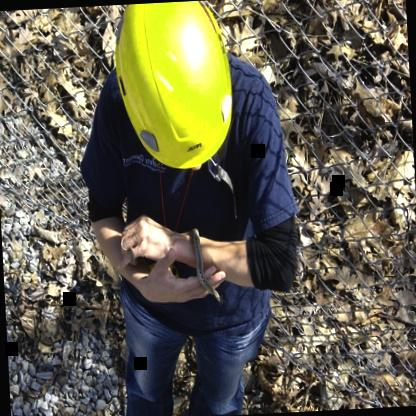helmet: (104, 0, 246, 172)
